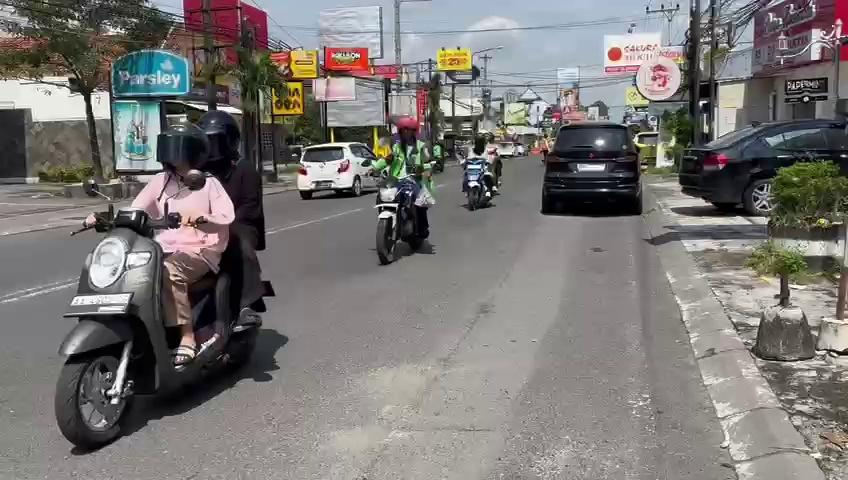helm: (152, 114, 211, 175)
riding: (54, 104, 277, 459)
